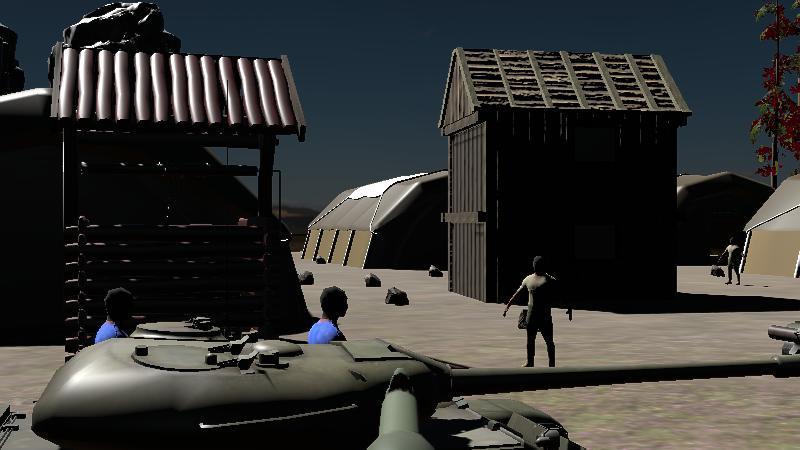House: (438, 47, 691, 306)
Human: (500, 254, 577, 381), (88, 286, 140, 342), (304, 286, 352, 344), (718, 235, 745, 285)
Tank: (11, 316, 756, 450), (5, 316, 686, 450), (765, 292, 800, 376)
